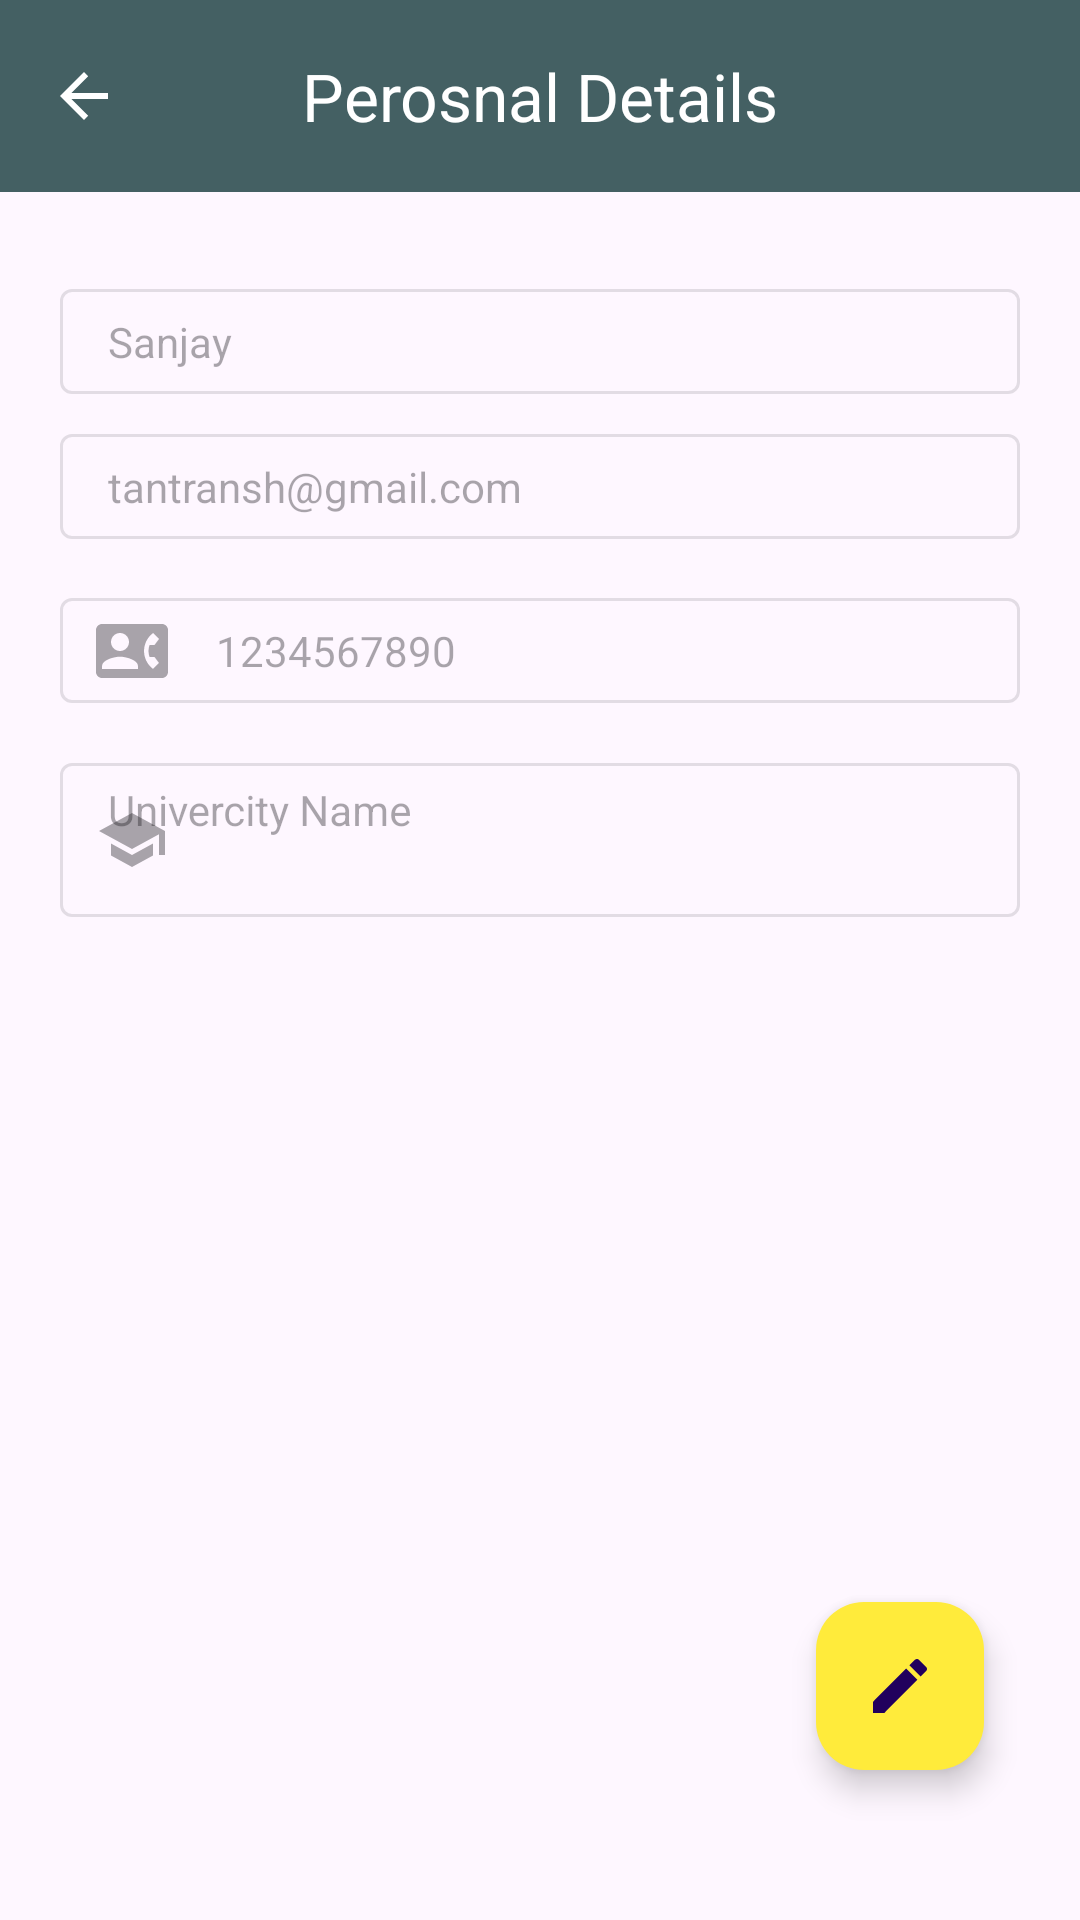

Point at icon controls on the screen. Image size 1080px×1920px, points as (x,y).
edit: (900,1686)
